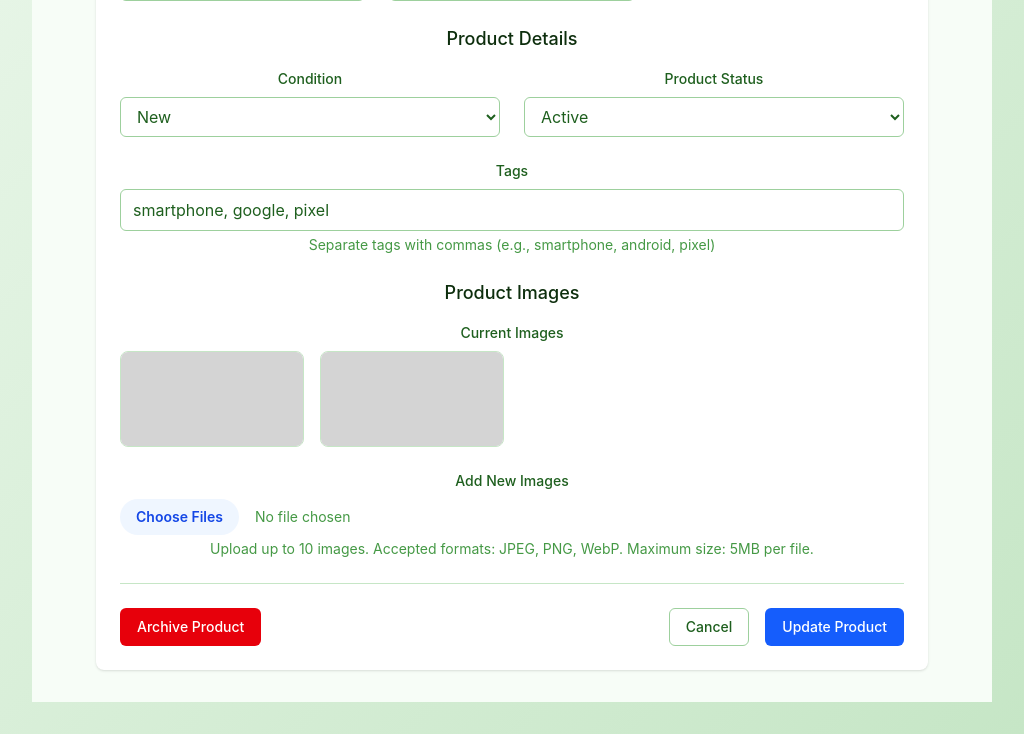
AdminProductFormPage - Delete Product Functionality › Delete Confirmation Modal › should show soft delete explanation in modal
(page scrolled)
Step 1. Click the button "Archive Product" → (191, 627), box [120, 608, 261, 646]
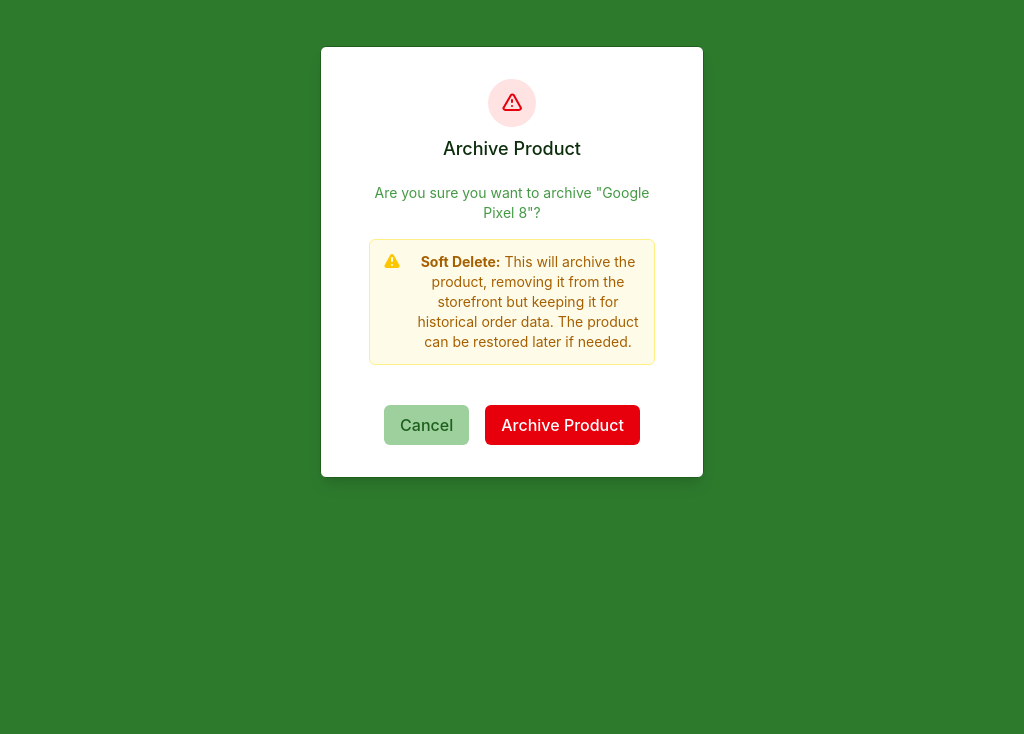
Check: the text "Soft Delete:" is shown, box [421, 253, 500, 270]
Check: the text "The product can be restored later if needed" is shown, box [417, 253, 639, 350]
